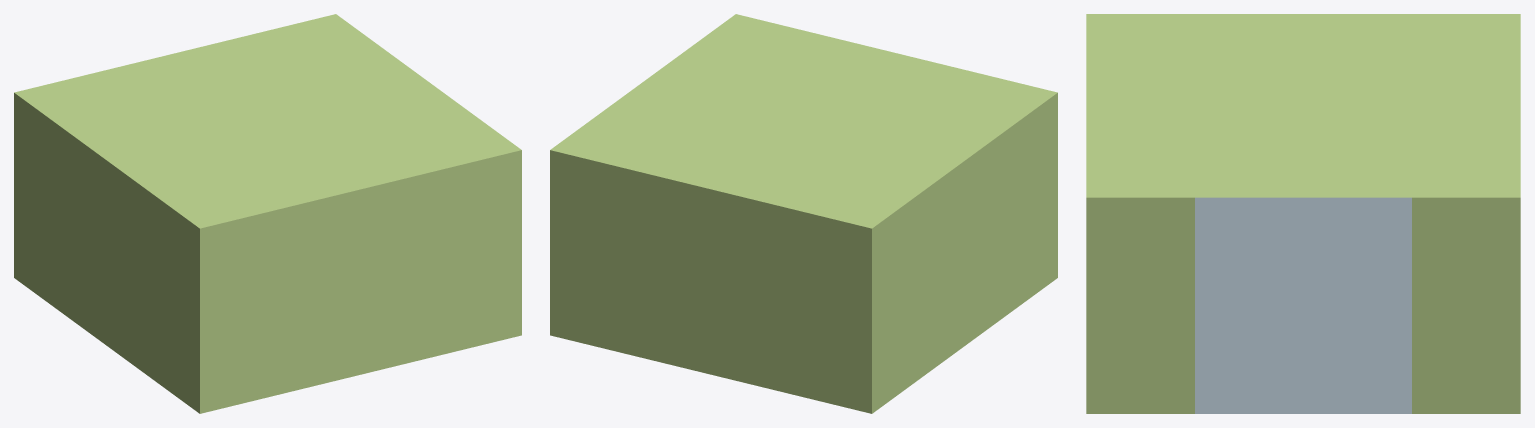
The model's file is roadTile_169.gltf.
3 renders of one model, left to right at view 1: azimuth 30°, elevation 25°; view 2: azimuth 150°, elevation 25°; view 3: azimuth 270°, elevation 25°, orthographic. The views are drawn at different scales.
Parts seen in each view (by area): view 1: roadTile_169; view 2: roadTile_169; view 3: roadTile_169.
Boxes of the visible parts, x1,y1,x2,y2 form: roadTile_169: (14,14,521,413); roadTile_169: (550,14,1057,413); roadTile_169: (1086,14,1520,413).
Bounding box in the file's own units: 3 × 1.65 × 3.
